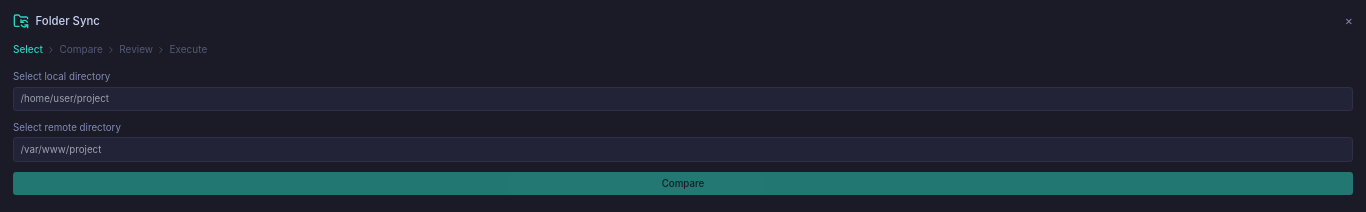
Test case: FolderSyncWizard › shows the no-changes message when nothing differs
In the field with placeholder "/home/user/project": (683, 99) [13, 86, 1353, 111], type "/local/project"
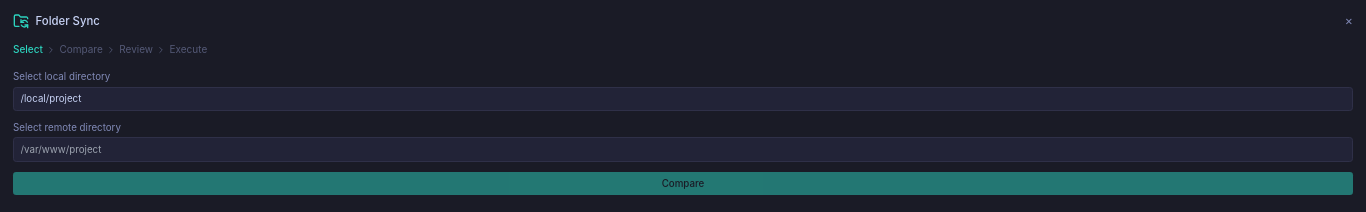
In the field with placeholder "/var/www/project": (683, 150) [13, 137, 1353, 162], type "/remote/project"
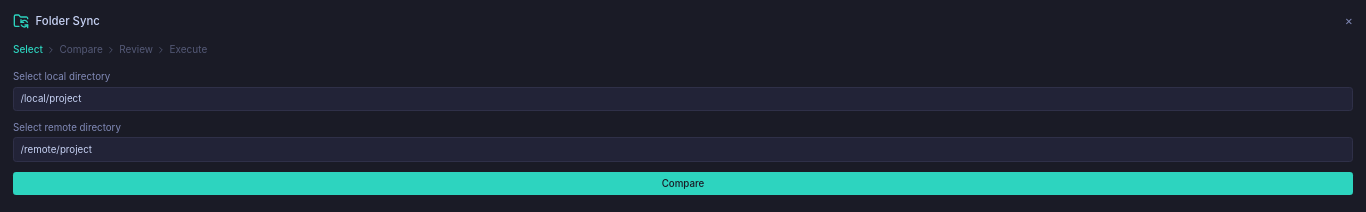
Click the button "Compare": (683, 183) [13, 172, 1353, 195]
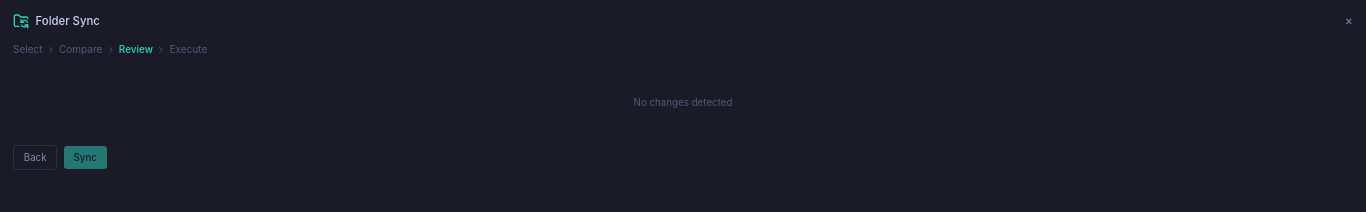
expect the text "No changes detected" is shown: met, box [634, 97, 732, 108]
